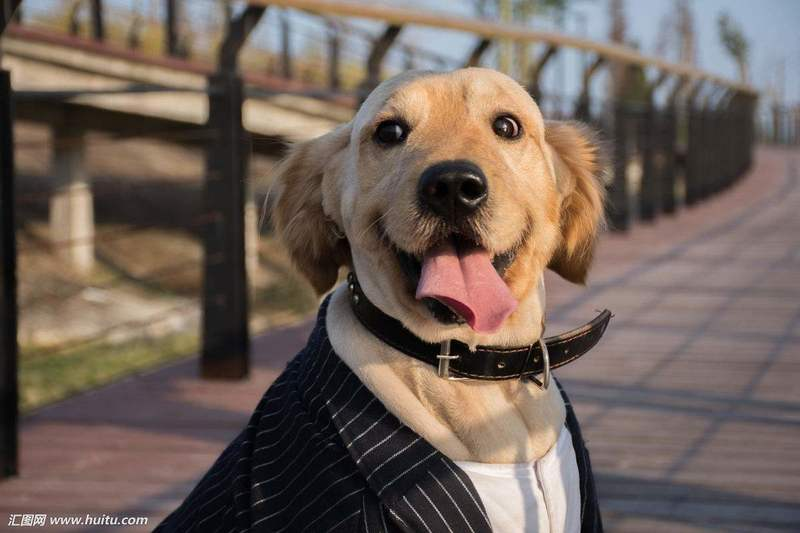dog: (254, 52, 625, 364)
